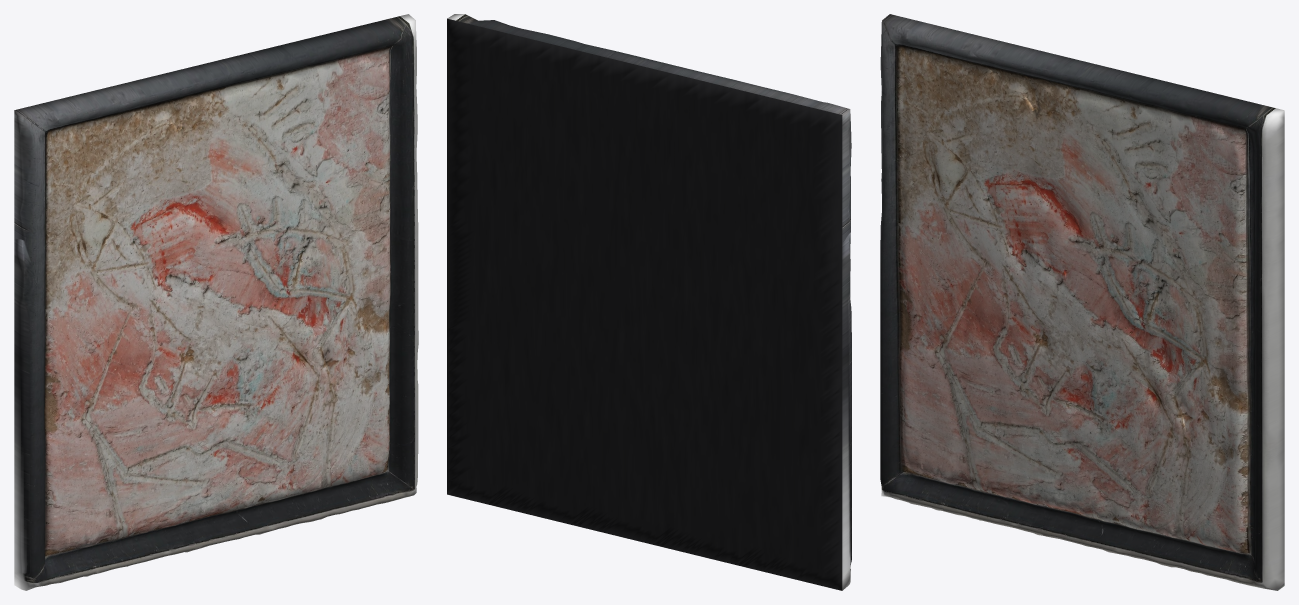
The model's file is escultura-esc-025.glb.
3 views of the same model, side by side, from view 1: azimuth 30°, elevation 25°; view 2: azimuth 150°, elevation 25°; view 3: azimuth 330°, elevation 25° (orthographic).
Visible parts, largest first — view 1: world; view 2: world; view 3: world.
Part boxes in pixels (left/top/right/bottom): world: left=14, top=14, right=418, bottom=590; world: left=447, top=14, right=851, bottom=590; world: left=880, top=14, right=1284, bottom=590.
Bounding box in the file's own units: 0.504 × 0.58 × 0.0332.
Materials: 1 (1 with a texture image).
